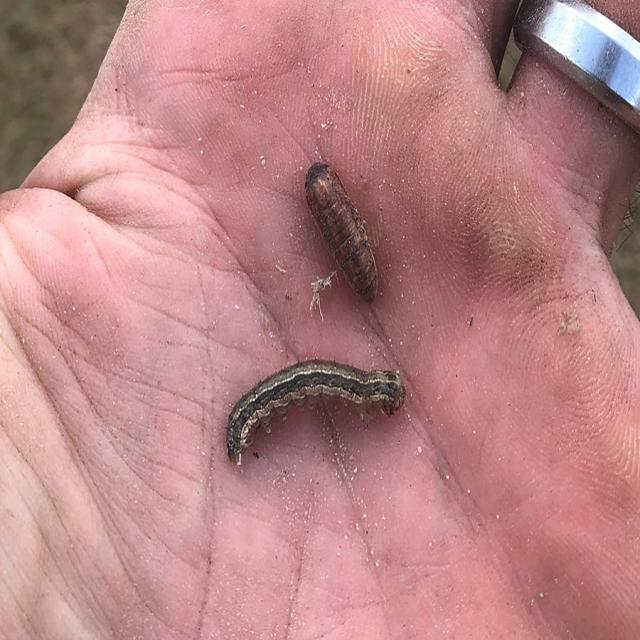Fall-Armyworm: (212, 354, 426, 484), (295, 152, 391, 328)
